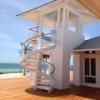stairs: (20, 30, 57, 90)
